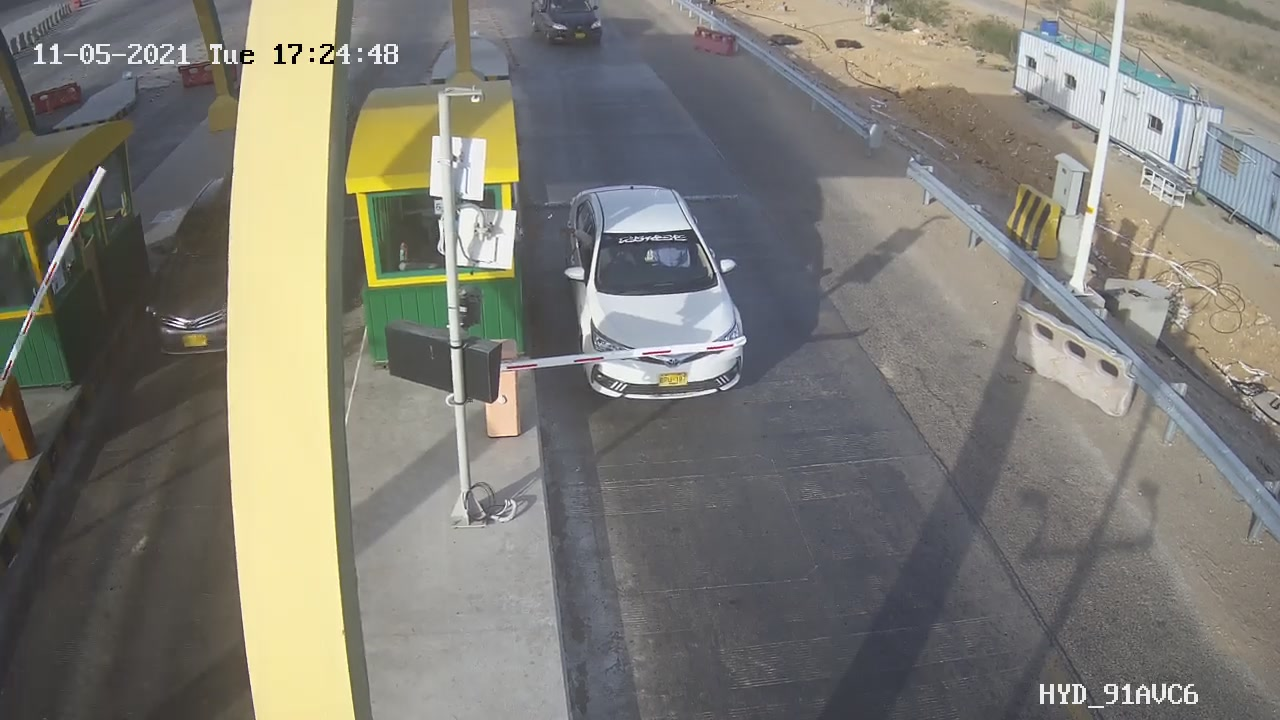F1: (544, 159, 776, 422)
